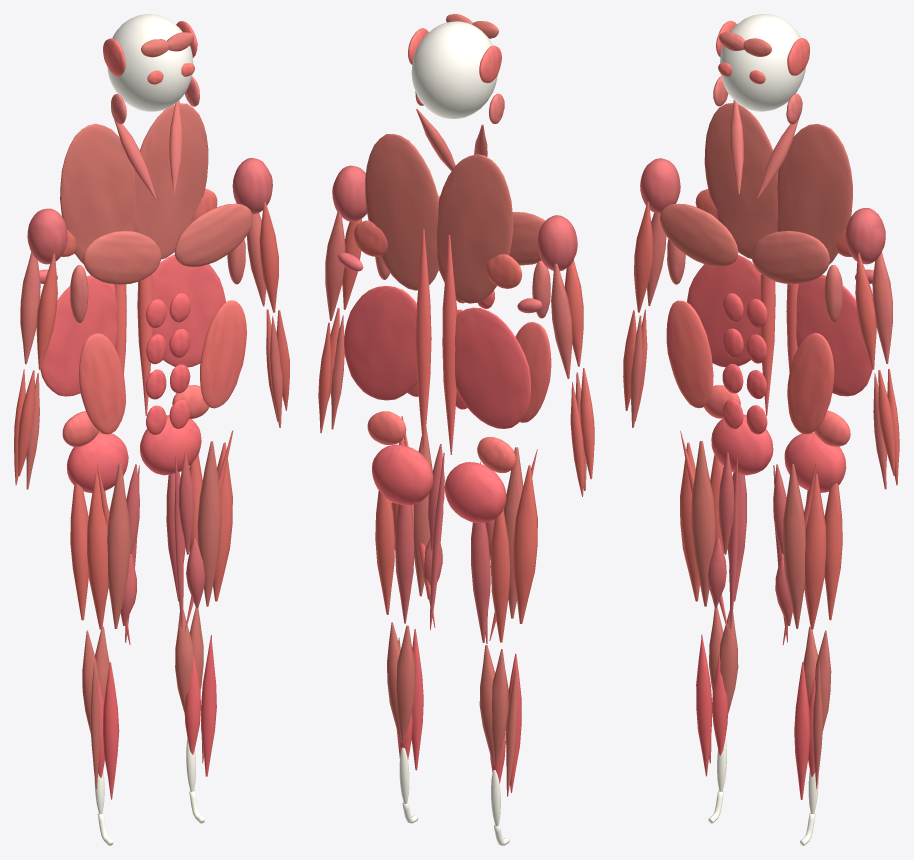
File: MUSCLE.glb
3 views of the same model, side by side, from view 1: azimuth 30°, elevation 25°; view 2: azimuth 150°, elevation 25°; view 3: azimuth 330°, elevation 25° (orthographic).
Parts seen in each view (by area): view 1: Trapezius_R, Trapezius_L, Skull, Latissimus_Dorsi_R, Latissimus_Dorsi_L, External_Oblique_L, External_Oblique_R, Pectoralis_Major_L, Pectoralis_Major_R, Rectus_Femoris_R, Rectus_Femoris_L, Gluteus_Maximus_R (+41 smaller); view 2: Trapezius_R, Trapezius_L, Latissimus_Dorsi_R, Latissimus_Dorsi_L, Skull, Gluteus_Maximus_R, Gluteus_Maximus_L, Vastus_Lateralis_R, Gastrocnemius_R, Gastrocnemius_L, Erector_Spinae_L, Erector_Spinae_R (+32 smaller); view 3: Trapezius_L, Trapezius_R, Skull, Latissimus_Dorsi_L, Latissimus_Dorsi_R, External_Oblique_R, External_Oblique_L, Pectoralis_Major_R, Pectoralis_Major_L, Rectus_Femoris_R, Rectus_Femoris_L, Gluteus_Maximus_L (+41 smaller).
Part boxes in pixels (x1,y1,x2,y2): Trapezius_R: (60,123,136,264); Trapezius_L: (134,103,208,259); Skull: (107,14,193,111); Latissimus_Dorsi_R: (40,275,116,396); Latissimus_Dorsi_L: (152,254,225,367); External_Oblique_L: (200,300,246,408); External_Oblique_R: (79,333,125,434); Pectoralis_Major_L: (174,203,252,266); Pectoralis_Major_R: (83,231,161,284); Rectus_Femoris_R: (107,463,130,628); Rectus_Femoris_L: (197,441,221,606); Gluteus_Maximus_R: (67,432,128,493); Trapezius_R: (437,154,513,303); Trapezius_L: (365,133,438,290); Latissimus_Dorsi_R: (455,307,530,428); Latissimus_Dorsi_L: (344,286,417,400); Skull: (411,21,497,118); Gluteus_Maximus_R: (444,462,506,523); Gluteus_Maximus_L: (372,444,433,505); Vastus_Lateralis_R: (513,465,537,623); Gastrocnemius_R: (479,645,508,766); Gastrocnemius_L: (387,622,415,743); Erector_Spinae_L: (415,229,431,448); Erector_Spinae_R: (442,235,456,454); Trapezius_L: (777,124,852,264); Trapezius_R: (704,102,778,258); Skull: (720,14,805,111); Latissimus_Dorsi_L: (796,275,872,396); Latissimus_Dorsi_R: (687,254,760,367); External_Oblique_R: (666,300,713,408); External_Oblique_L: (787,332,834,434); Pectoralis_Major_R: (659,203,738,266); Pectoralis_Major_L: (751,231,829,284); Rectus_Femoris_R: (691,441,715,606); Rectus_Femoris_L: (783,463,805,628); Gluteus_Maximus_L: (784,432,846,492).
Bounding box in the file's own units: 2.96 × 8.48 × 0.9274.
